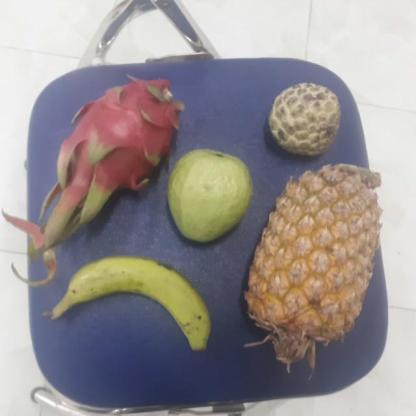annona: (265, 83, 341, 156)
banana: (50, 256, 209, 345)
guava: (164, 148, 253, 242)
pineapple: (243, 166, 378, 340)
pitaya: (56, 78, 180, 198)
